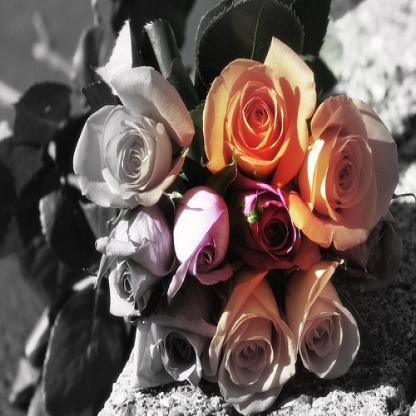ROSE-MAWAR: (64, 51, 401, 415)
